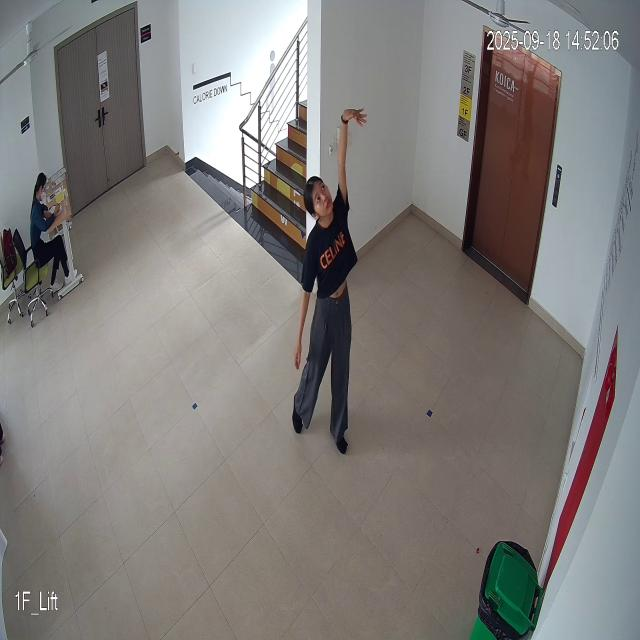face: (305, 170, 336, 220)
